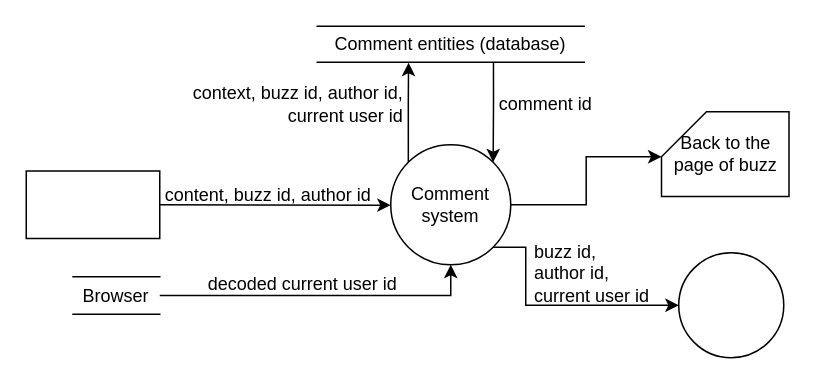
Some shapes in this 816 by 384 pixel diagram are drawn without their labels. The shapes that lost their labels are listed below. From the top down, each one's centre as x and y in pixels, then its label:
At (92,204): "User inputs".
At (730,304): "Mentioning system".
